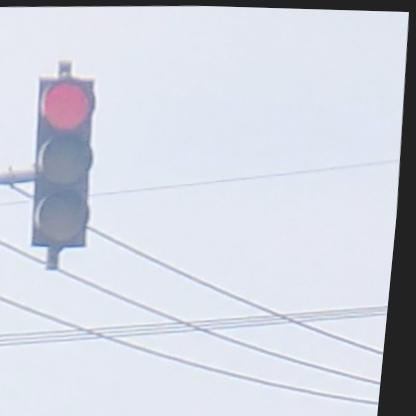red: (25, 74, 108, 252)
